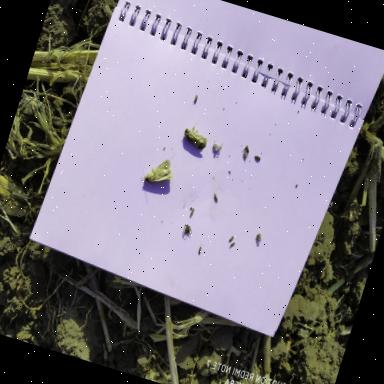abw: (138, 150, 179, 192), (176, 118, 214, 154)
